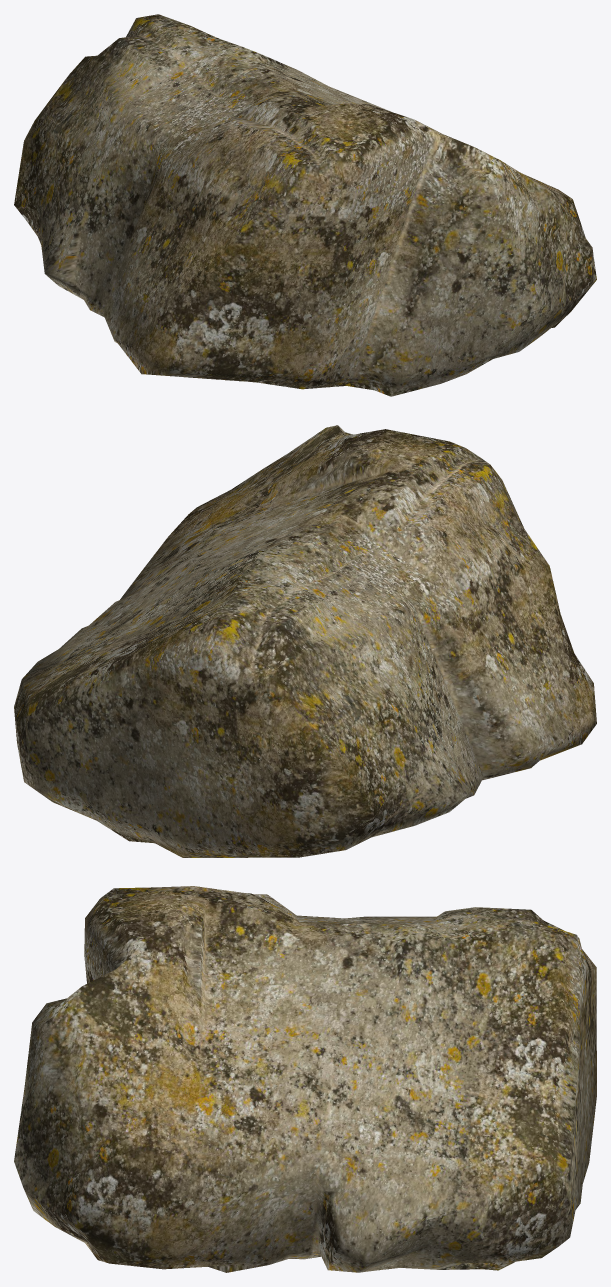
The model's file is roca2.obj.
The picture shows the model from 3 angles, top to bottom: view 1: azimuth 30°, elevation 25°; view 2: azimuth 150°, elevation 25°; view 3: azimuth 270°, elevation 25°; orthographic projection. The views are drawn at different scales.
Visible parts, largest first — view 1: Rock_6; view 2: Rock_6; view 3: Rock_6.
Boxes of the visible parts, box(x1,y1,x2,y2) form: Rock_6: box(14, 14, 596, 396); Rock_6: box(14, 425, 596, 857); Rock_6: box(14, 886, 596, 1272).
Size of the model in its own units: 4.32 by 2.64 by 4.64.
1 material, 1 textured.
